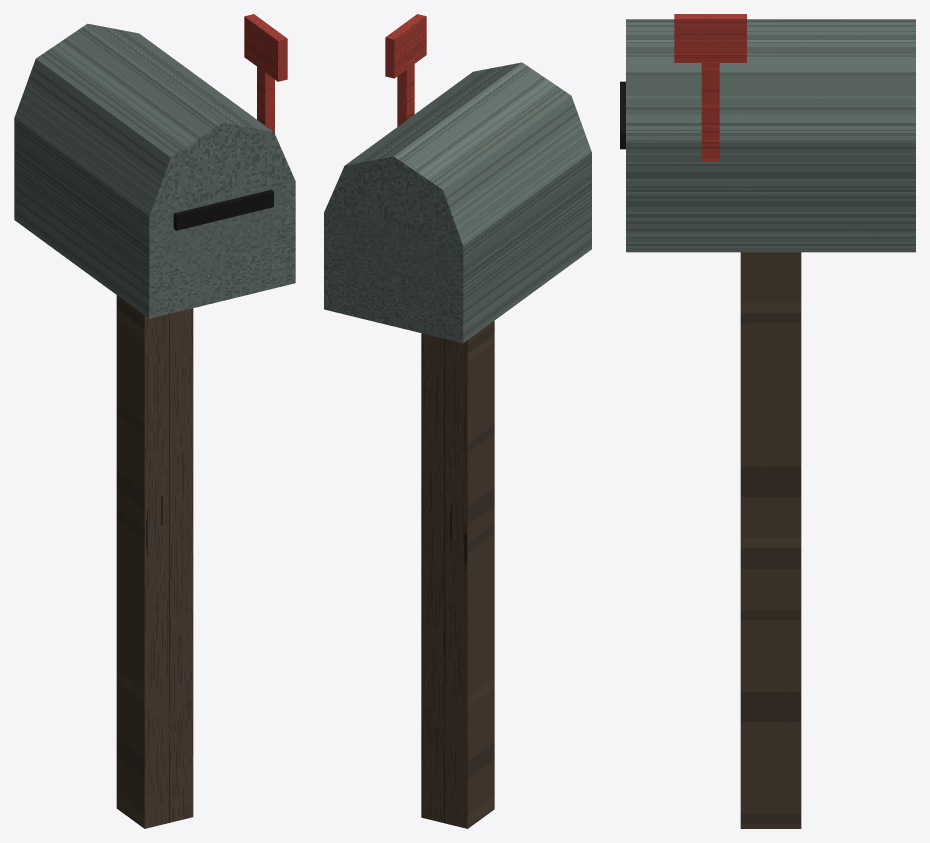
File: mailbox.glb
3 renders of one model, left to right at view 1: azimuth 30°, elevation 25°; view 2: azimuth 150°, elevation 25°; view 3: azimuth 270°, elevation 25°, orthographic. The views are drawn at different scales.
Parts seen in each view (by area): view 1: mailbox; view 2: mailbox; view 3: mailbox.
Part boxes in pixels (x1,y1,x2,y2): mailbox: [14, 14, 295, 828]; mailbox: [324, 14, 591, 828]; mailbox: [620, 14, 915, 828].
Size of the model in its own units: 0.33 by 1.54 by 0.49.
1 material, 1 textured.
